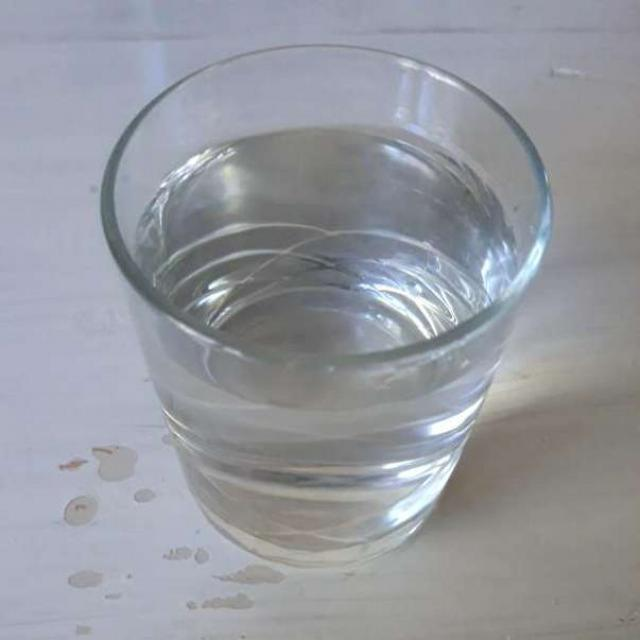water: (128, 120, 525, 552)
